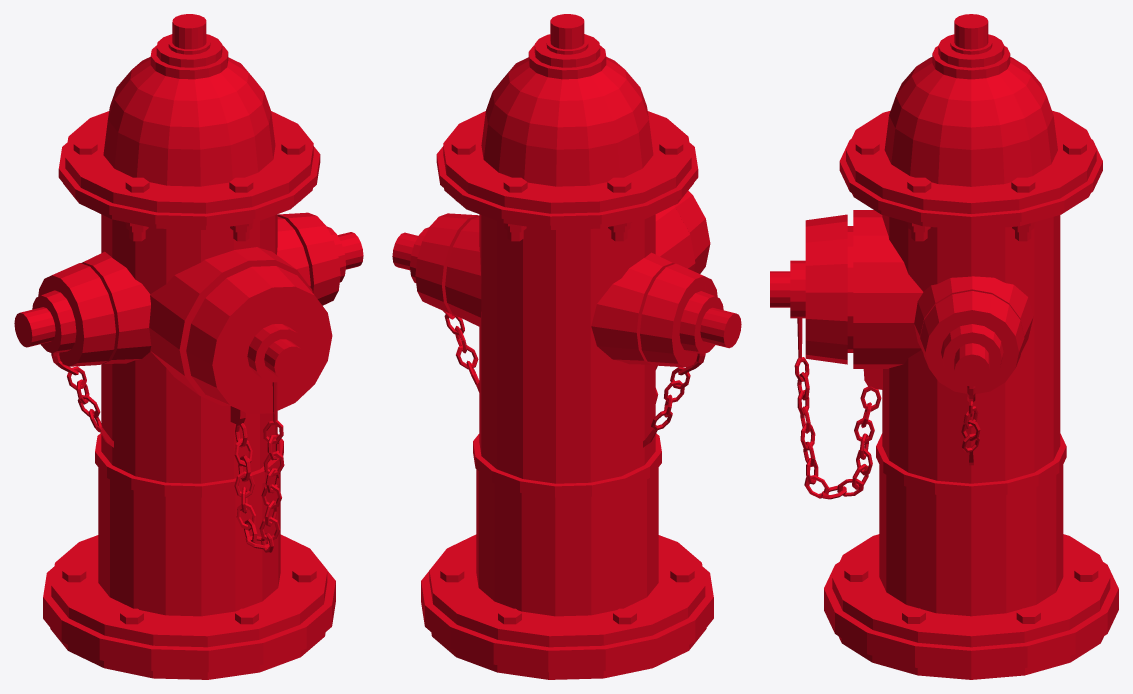
Rendered from Hidrant.fbx.
3 renders of one model, left to right at view 1: azimuth 30°, elevation 25°; view 2: azimuth 150°, elevation 25°; view 3: azimuth 270°, elevation 25°, orthographic.
Parts seen in each view (by area): view 1: Cylinder.022; view 2: Cylinder.022; view 3: Cylinder.022.
Boxes of the visible parts, x1=… form: Cylinder.022: x1=14, y1=14, x2=363, y2=679; Cylinder.022: x1=392, y1=14, x2=741, y2=679; Cylinder.022: x1=770, y1=14, x2=1118, y2=679.
Bounding box in the file's own units: 43.61 × 75.49 × 39.79.
